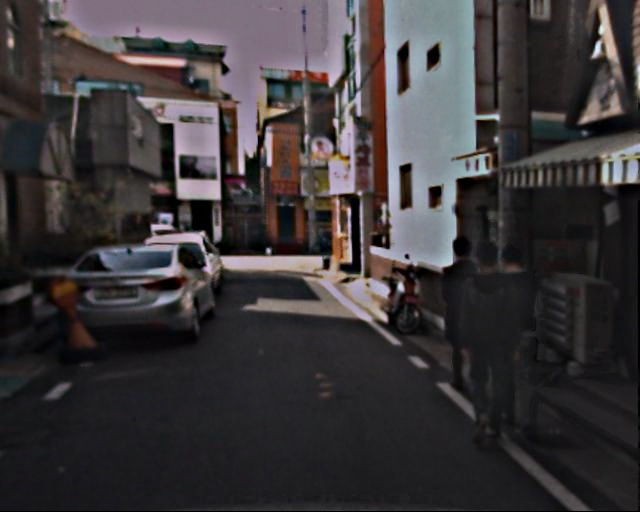person: (447, 241, 530, 443), (477, 250, 548, 424), (433, 237, 496, 390)
